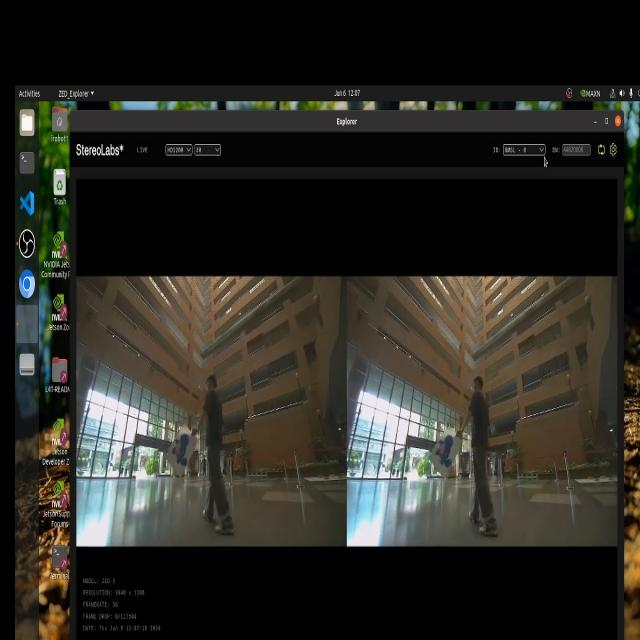blue: (430, 427, 468, 476), (164, 426, 194, 471)
